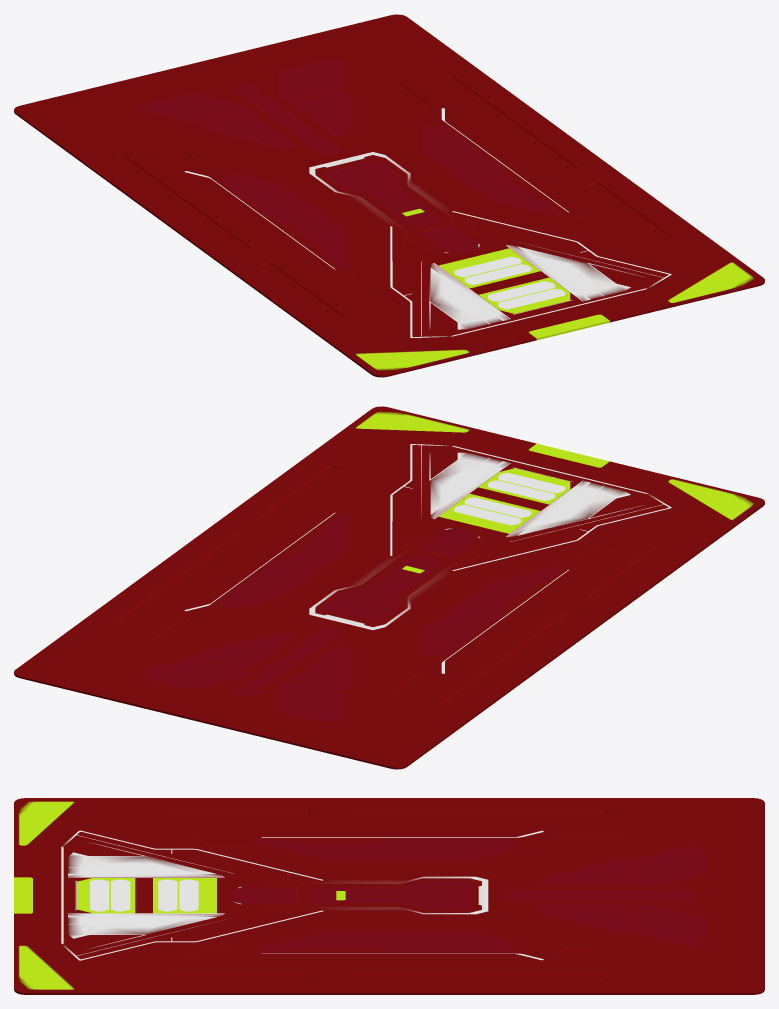
The model's file is part_main-lod0.dae.
3 views of the same model, one above another, from view 1: azimuth 30°, elevation 25°; view 2: azimuth 150°, elevation 25°; view 3: azimuth 270°, elevation 25° (orthographic). The views are drawn at different scales.
Parts seen in each view (by area): view 1: part_main-lod0Xlod0Xp2multimatXp2_multimat_01, part_main-lod0Xlod0Xp2genericXgen_p2_hulltexture_02_e, part_main-lod0Xlod0Xp2genericXgen_p2_hullpattern_01; view 2: part_main-lod0Xlod0Xp2multimatXp2_multimat_01, part_main-lod0Xlod0Xp2genericXgen_p2_hulltexture_02_e, part_main-lod0Xlod0Xp2genericXgen_p2_hullpattern_01; view 3: part_main-lod0Xlod0Xp2multimatXp2_multimat_01, part_main-lod0Xlod0Xp2genericXgen_p2_hulltexture_02_e, part_main-lod0Xlod0Xp2genericXgen_p2_hullpattern_01.
Part boxes in pixels (x1,y1,x2,y2): part_main-lod0Xlod0Xp2multimatXp2_multimat_01: (58,43,678,340); part_main-lod0Xlod0Xp2genericXgen_p2_hulltexture_02_e: (14,14,764,377); part_main-lod0Xlod0Xp2genericXgen_p2_hullpattern_01: (50,39,741,367); part_main-lod0Xlod0Xp2multimatXp2_multimat_01: (58,441,678,739); part_main-lod0Xlod0Xp2genericXgen_p2_hulltexture_02_e: (14,406,764,769); part_main-lod0Xlod0Xp2genericXgen_p2_hullpattern_01: (50,415,741,742); part_main-lod0Xlod0Xp2multimatXp2_multimat_01: (56,803,752,987); part_main-lod0Xlod0Xp2genericXgen_p2_hulltexture_02_e: (14,798,764,994); part_main-lod0Xlod0Xp2genericXgen_p2_hullpattern_01: (14,798,752,994).
Size of the model in its own units: 105 by 0.4602 by 170.
